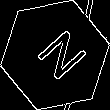N_SW: (24, 24, 86, 86)
